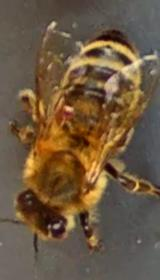varroa_mite: (51, 96, 77, 124)
